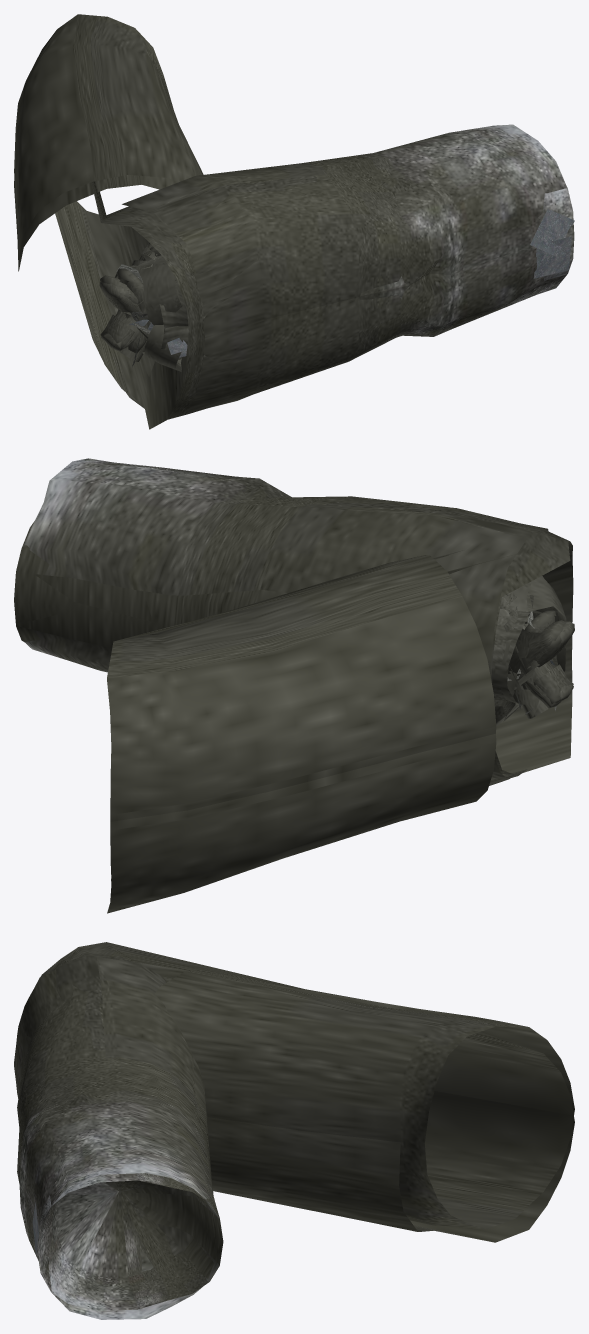
The model's file is viewmodel_hands_german_winter.glb.
The picture shows the model from 3 angles, top to bottom: view 1: azimuth 30°, elevation 25°; view 2: azimuth 150°, elevation 25°; view 3: azimuth 270°, elevation 25°; orthographic projection. The views are drawn at different scales.
Bounding box in the file's own units: 13.45 × 6.21 × 14.62.
Materials: 3 (3 with a texture image).
